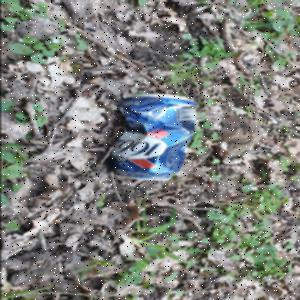Can: (107, 94, 199, 182)
